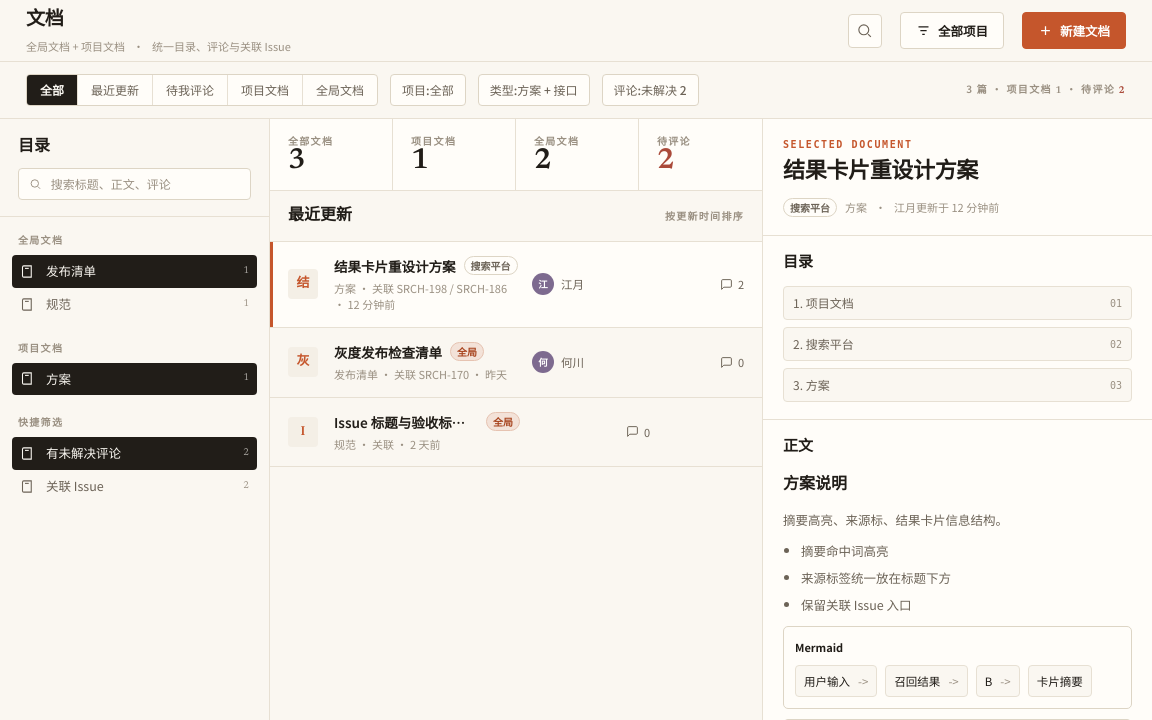
DocsPage › shows create document errors instead of silently ignoring failures
Click the button "新建文档": (1074, 30) [1022,12,1126,49]
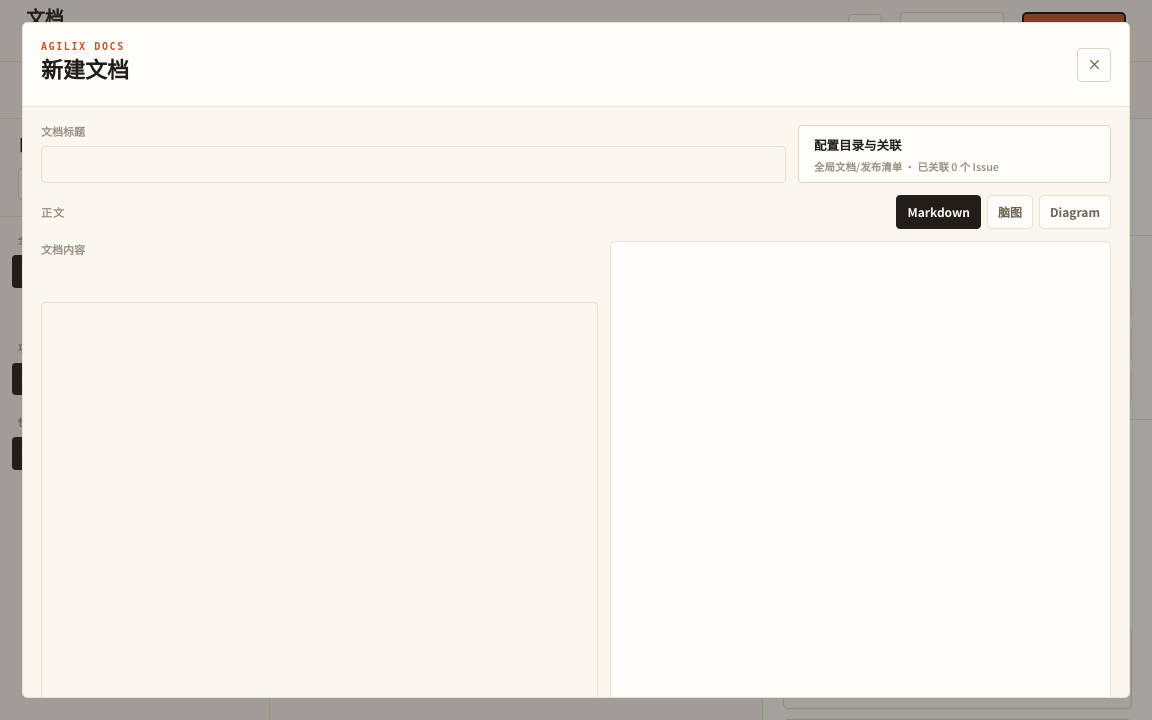
In the field labelled "文档标题": (414, 164) [41,146,786,183], type "增长实验说明"
(page scrolled)
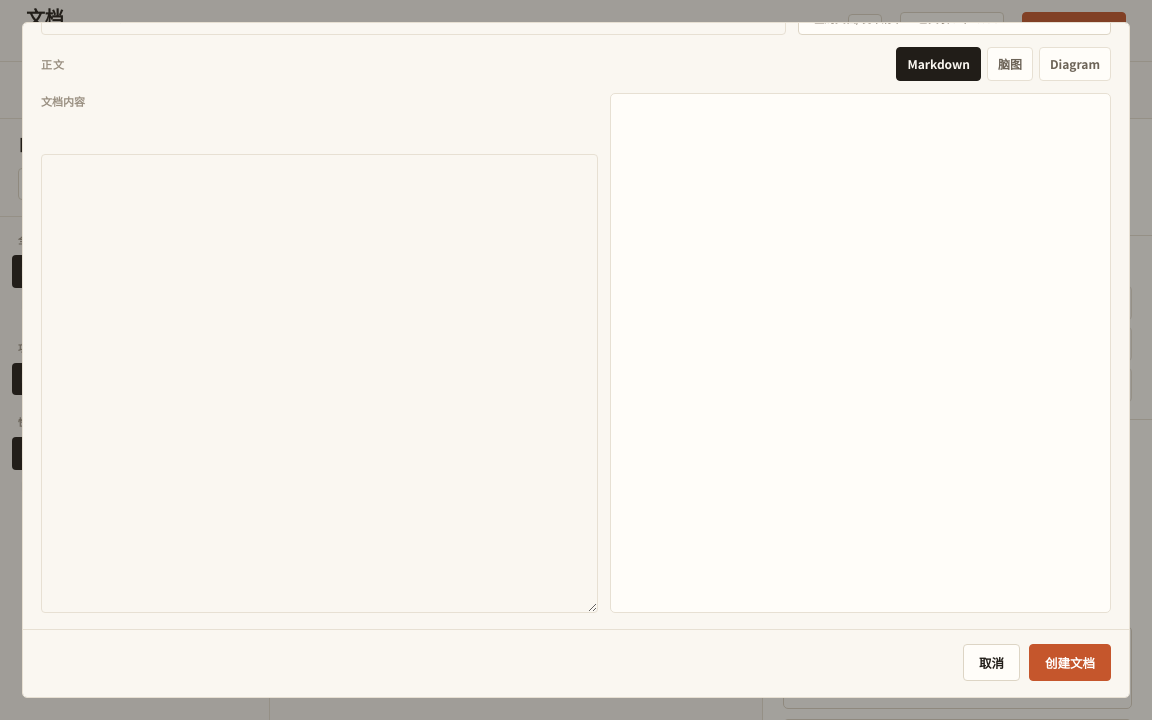
In the text box labelled "文档内容": (319, 384) [41,154,598,613], type "从表单创建的文档"
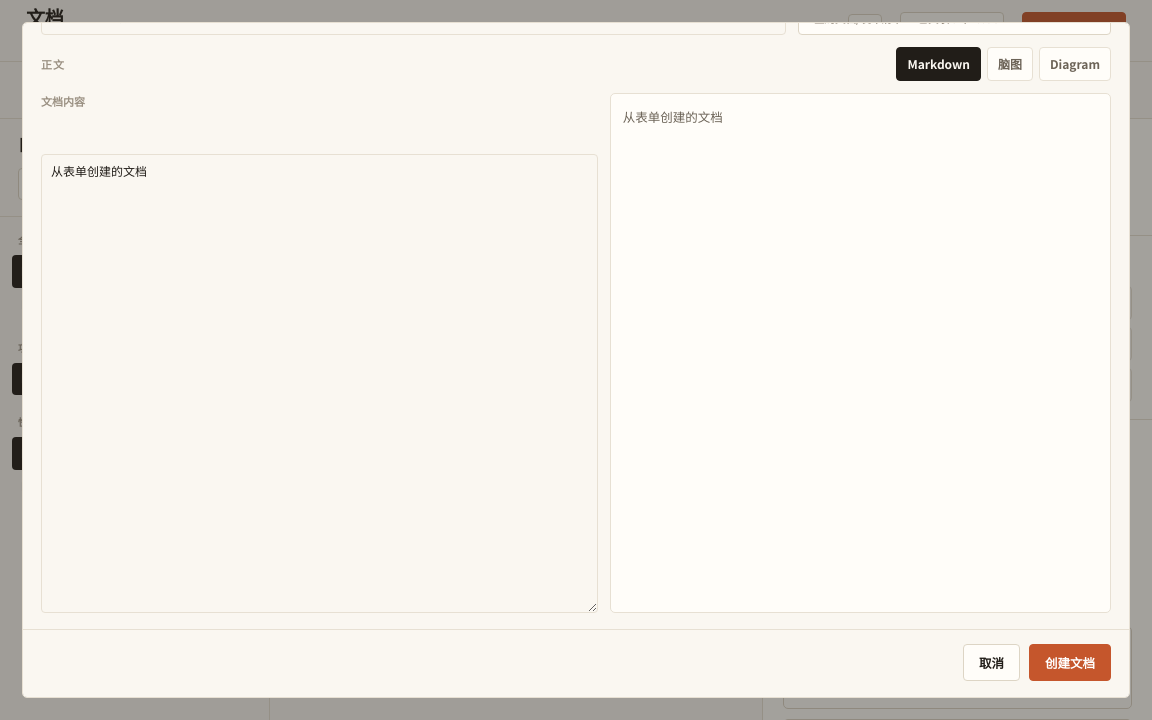
Click the button "创建文档": (1070, 662) [1029,644,1111,681]
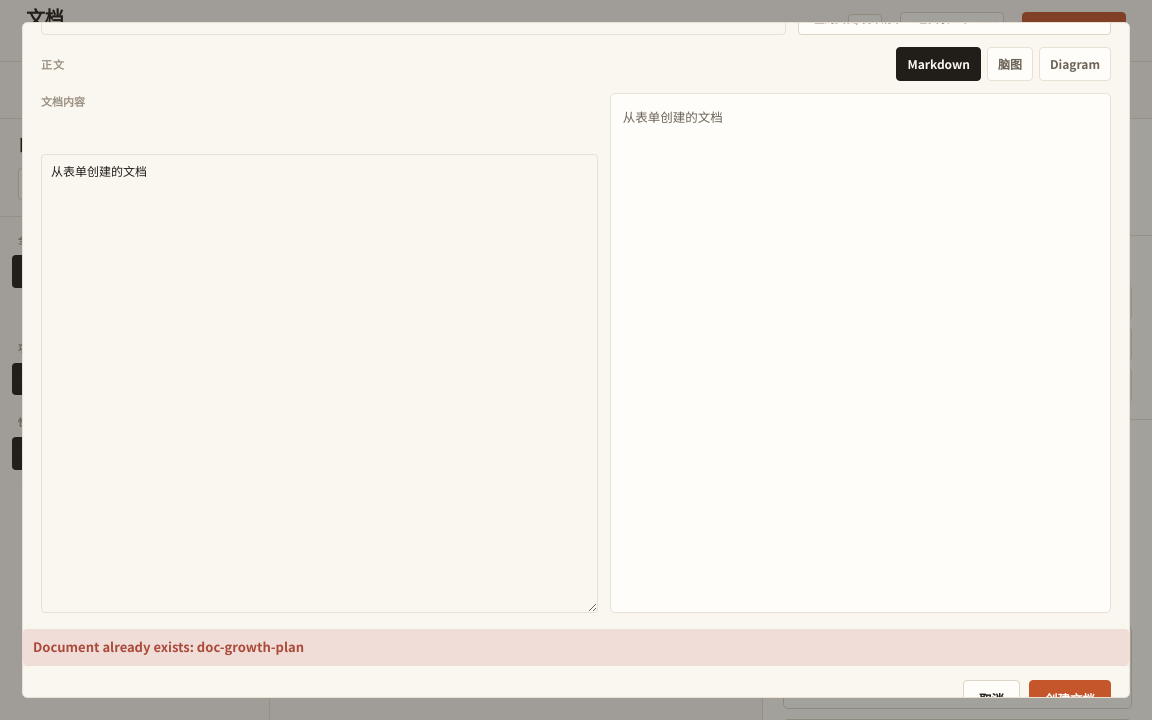
Expected: the text "Document already exists: doc-growth-plan" is shown, [23,629,1129,664]
